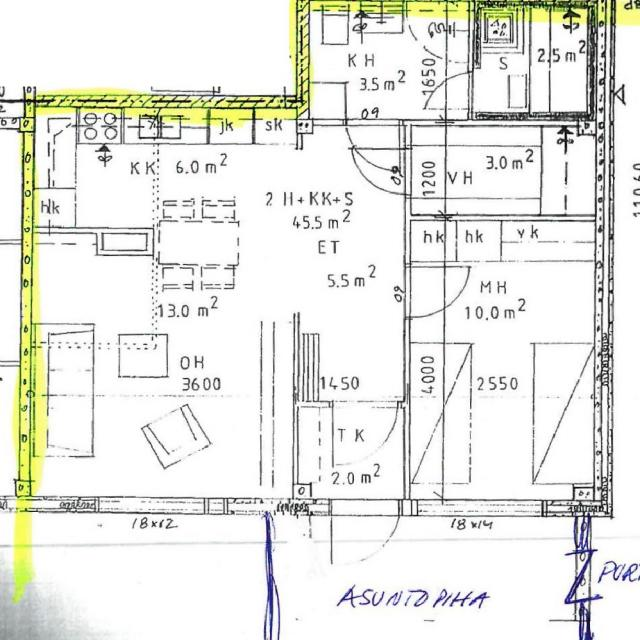door: (332, 499, 398, 579), (333, 401, 397, 468), (346, 118, 399, 176), (405, 268, 463, 317), (357, 149, 411, 194), (430, 73, 480, 109)
